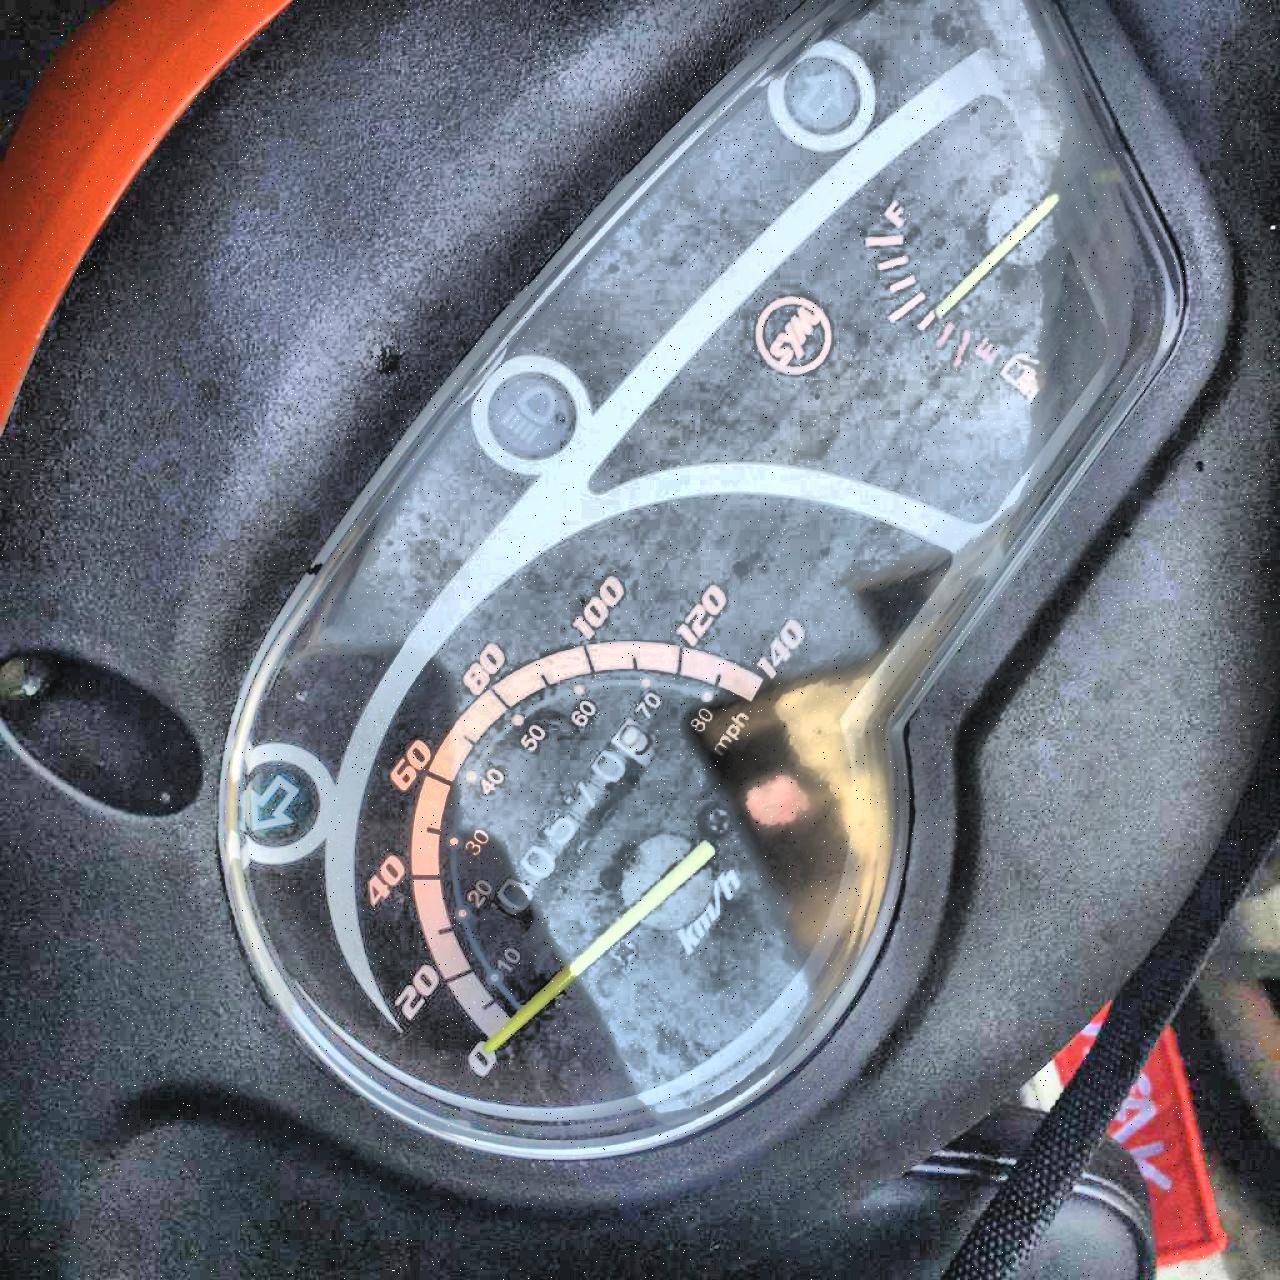0: (516, 846, 556, 881), (495, 876, 535, 910), (587, 750, 626, 784), (486, 768, 505, 783), (527, 724, 544, 740)
5: (538, 809, 578, 846), (518, 734, 538, 750)
6: (568, 710, 587, 726)
7: (563, 779, 595, 809)
9: (615, 720, 654, 756)
odometer: (491, 715, 665, 925)
